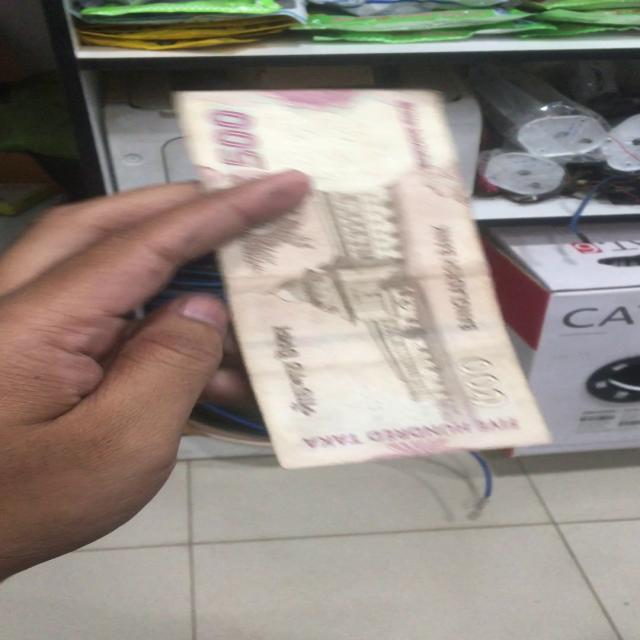Taka: (179, 90, 544, 448)
